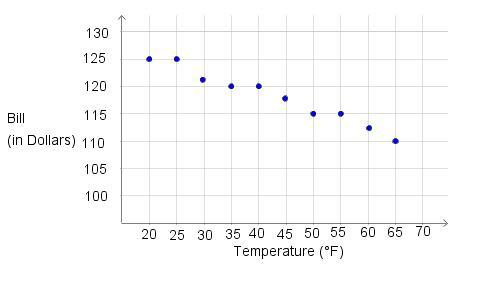axis: (116, 220, 450, 228), (116, 13, 125, 228)
point: (171, 53, 183, 68), (254, 80, 266, 93), (279, 92, 291, 105), (335, 109, 348, 121), (364, 121, 375, 135), (391, 135, 402, 148), (143, 53, 154, 65), (225, 82, 236, 93), (197, 76, 209, 86), (309, 109, 319, 120)
